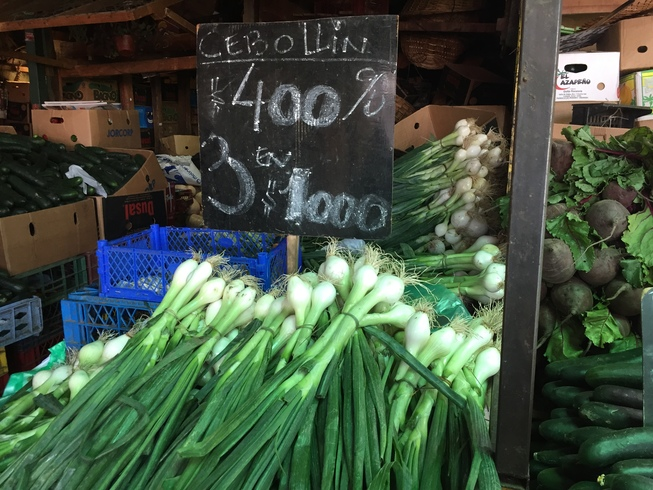precio: (195, 16, 397, 240)
